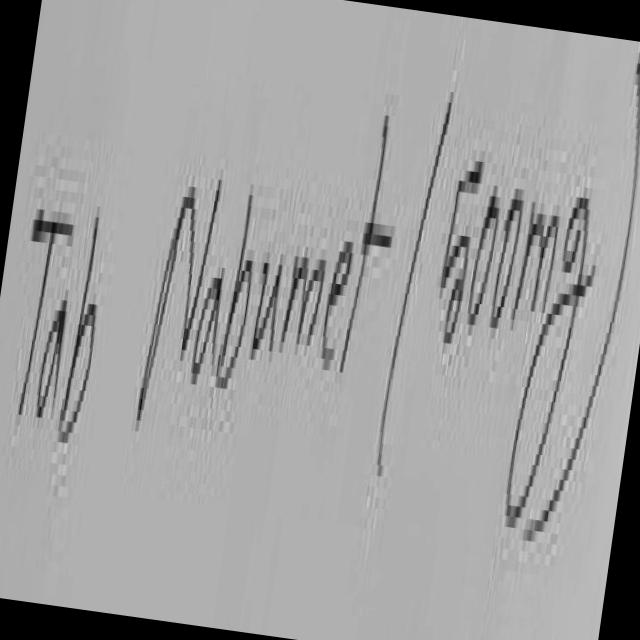0: (494, 190, 524, 323), (470, 186, 498, 320)
5: (443, 168, 483, 339)
N: (137, 186, 221, 415)
T: (20, 225, 72, 410)
a: (36, 301, 66, 412), (194, 268, 223, 379)
b: (59, 210, 102, 438), (217, 185, 253, 384)
e: (320, 241, 354, 388)
g: (507, 188, 589, 523)
m: (274, 234, 328, 369), (512, 182, 562, 327)
t: (340, 104, 392, 367)
u: (251, 255, 283, 355)
